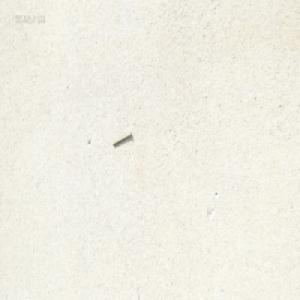Bolt: (112, 131, 131, 147)
